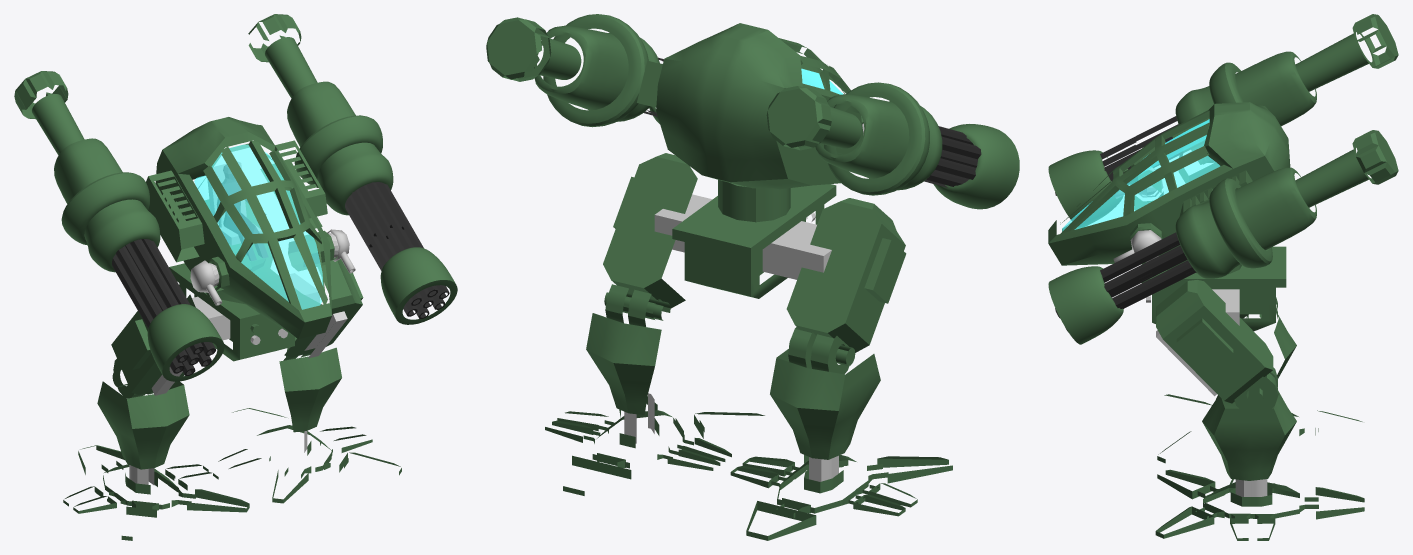
File: Mech Assault Walker.glb
3 renders of one model, left to right at view 1: azimuth 30°, elevation 25°; view 2: azimuth 150°, elevation 25°; view 3: azimuth 270°, elevation 25°, orthographic. The views are drawn at different scales.
Visible parts, largest first — view 1: Cube; view 2: Cube; view 3: Cube.
Boxes of the visible parts, x1,y1,x2,y2 form: Cube: [14, 14, 457, 540]; Cube: [486, 14, 1019, 540]; Cube: [1048, 14, 1398, 540].
Bounding box in the file's own units: 16.43 × 19.31 × 15.54.
